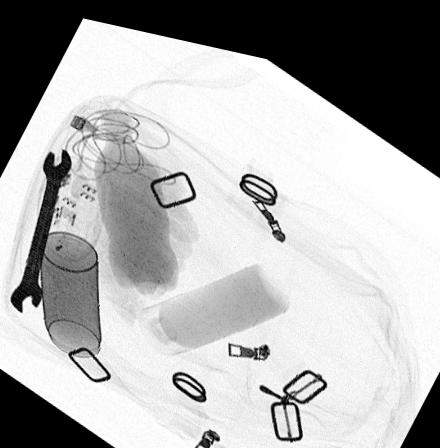Wrench: (8, 142, 73, 314)
